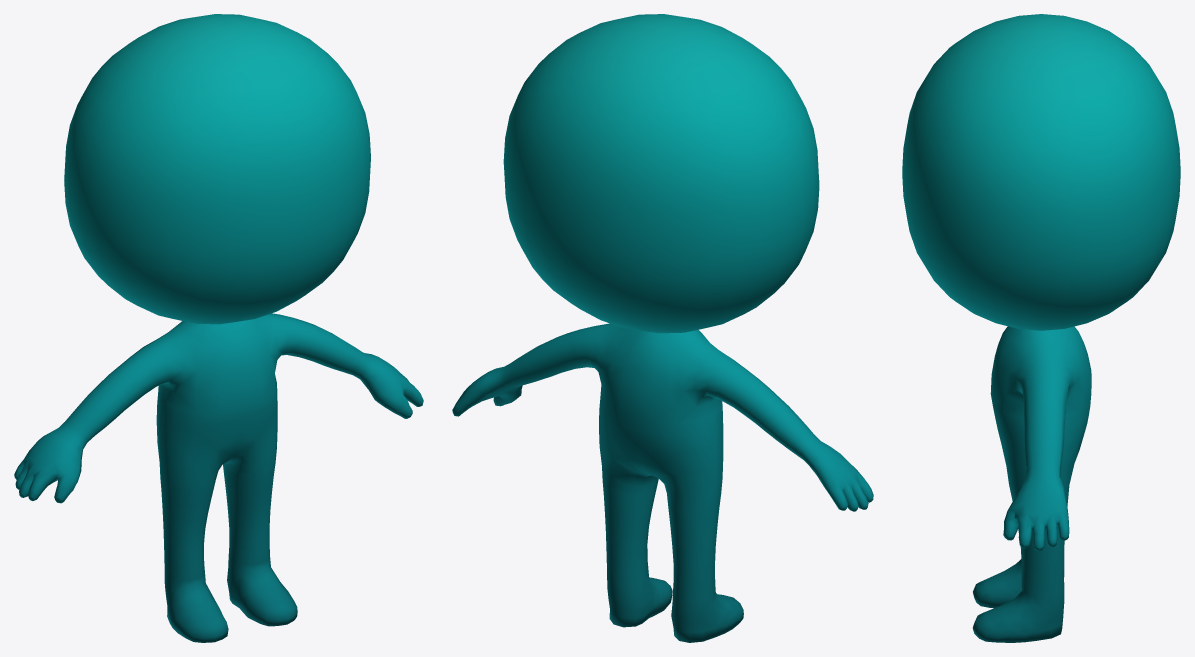
Rendered from Body_04.glb.
3 views of the same model, side by side, from view 1: azimuth 30°, elevation 25°; view 2: azimuth 150°, elevation 25°; view 3: azimuth 270°, elevation 25° (orthographic). The views are drawn at different scales.
Visible parts, largest first — view 1: Body_04; view 2: Body_04; view 3: Body_04.
Boxes of the visible parts, x1=… form: Body_04: x1=14, y1=14, x2=423, y2=642; Body_04: x1=452, y1=14, x2=873, y2=642; Body_04: x1=902, y1=14, x2=1180, y2=642.
Bounding box in the file's own units: 0.828 × 1.15 × 0.4965.
1 material, 1 textured.
